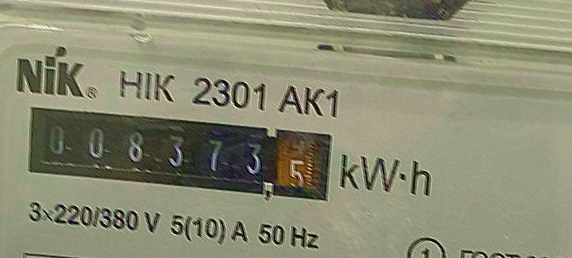0: (46, 120, 69, 158), (86, 123, 108, 161)
3: (242, 138, 268, 177), (164, 131, 189, 170)
4: (289, 135, 309, 157)
5: (287, 156, 309, 188)
7: (204, 134, 226, 174)
8: (125, 127, 149, 165)
screen: (19, 97, 343, 215)
